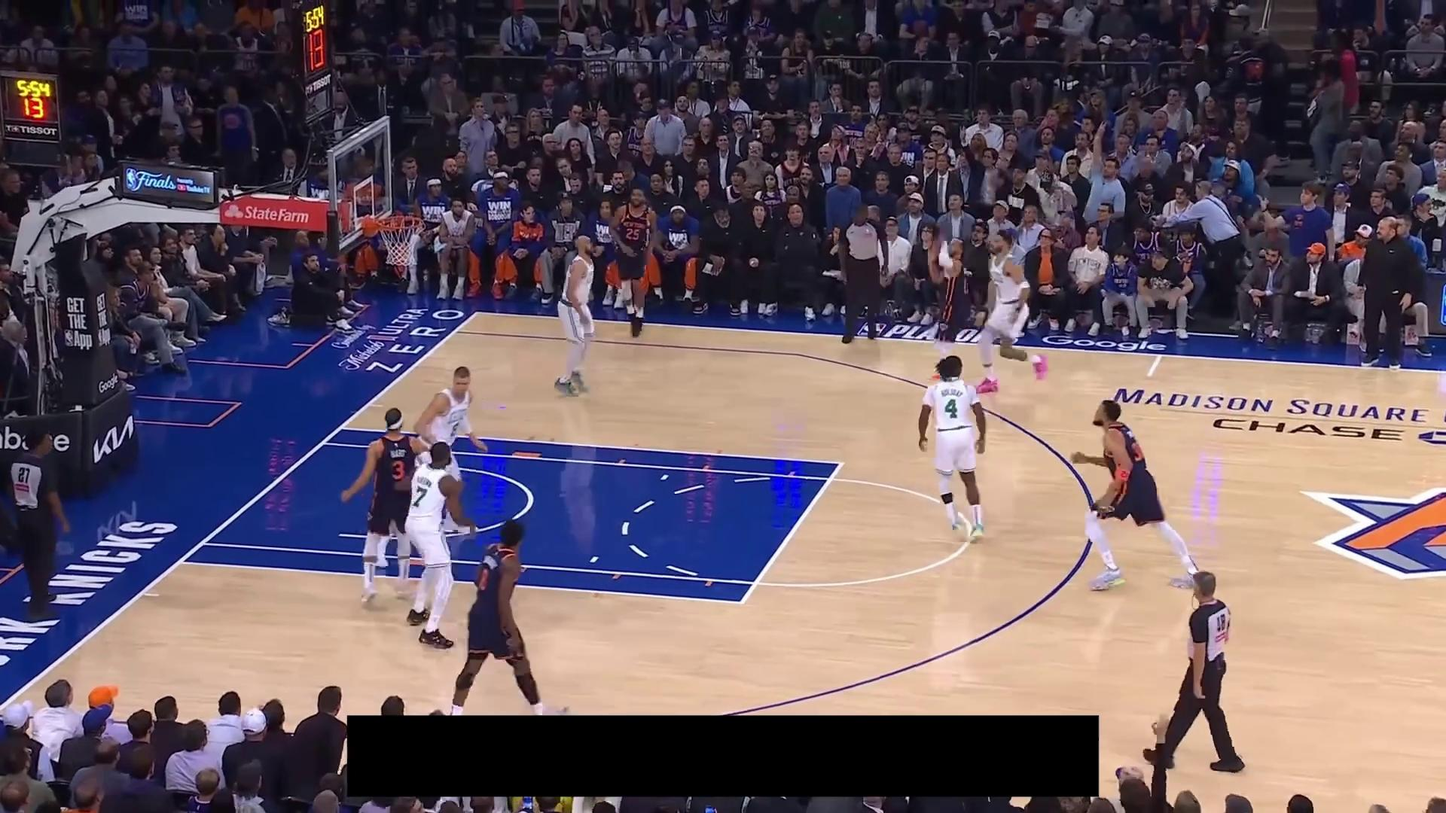number: (412, 485, 428, 508), (944, 397, 959, 419), (392, 459, 405, 481), (478, 568, 490, 591), (625, 227, 640, 241), (450, 422, 460, 438)
player: (1069, 397, 1201, 594), (450, 517, 572, 714), (374, 364, 490, 567), (342, 406, 432, 607), (402, 439, 477, 651), (917, 354, 989, 544), (972, 231, 1050, 395), (606, 184, 661, 339), (926, 221, 974, 385), (555, 235, 596, 397)
referee: (1142, 571, 1246, 774), (8, 428, 72, 622), (838, 202, 890, 343)
rim: (376, 215, 426, 230)
